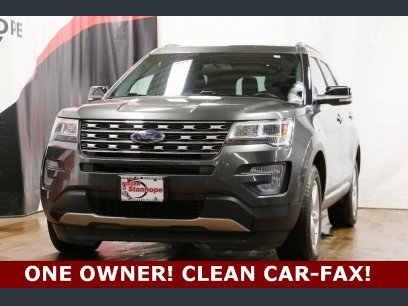Ford Explorer: (36, 40, 364, 261)
